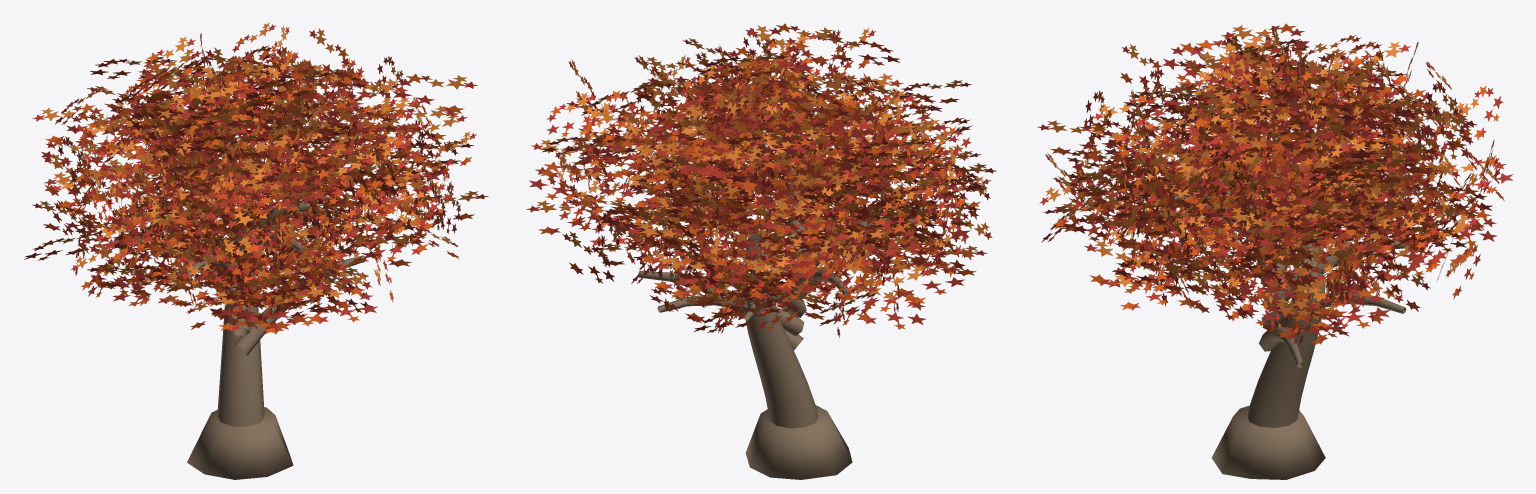
File: tree2_maple.glb
3 views of the same model, side by side, from view 1: azimuth 30°, elevation 25°; view 2: azimuth 150°, elevation 25°; view 3: azimuth 270°, elevation 25° (orthographic). The views are drawn at different scales.
Visible parts, largest first — view 1: cards, body; view 2: cards, body; view 3: cards, body.
Part boxes in pixels (x1,y1,x2,y2): cards: (24,22,488,334); body: (114,202,366,479); cards: (526,23,996,337); body: (638,147,917,479); cards: (1037,23,1512,346); body: (1157,177,1406,479).
Bounding box in the file's own units: 5.58 × 5.06 × 5.36.
Materials: 2 (1 with a texture image).
